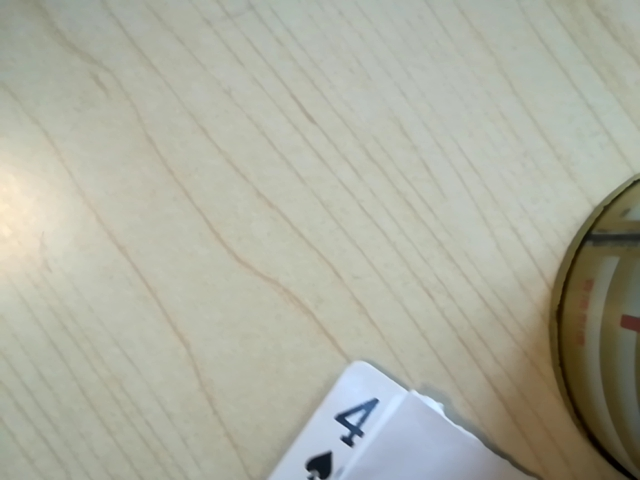ht 4: (288, 388, 390, 480)
